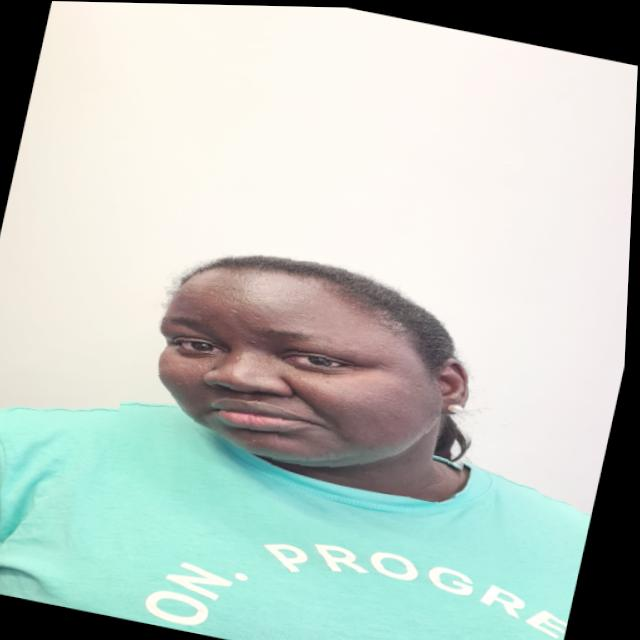sad: (115, 219, 511, 504)
